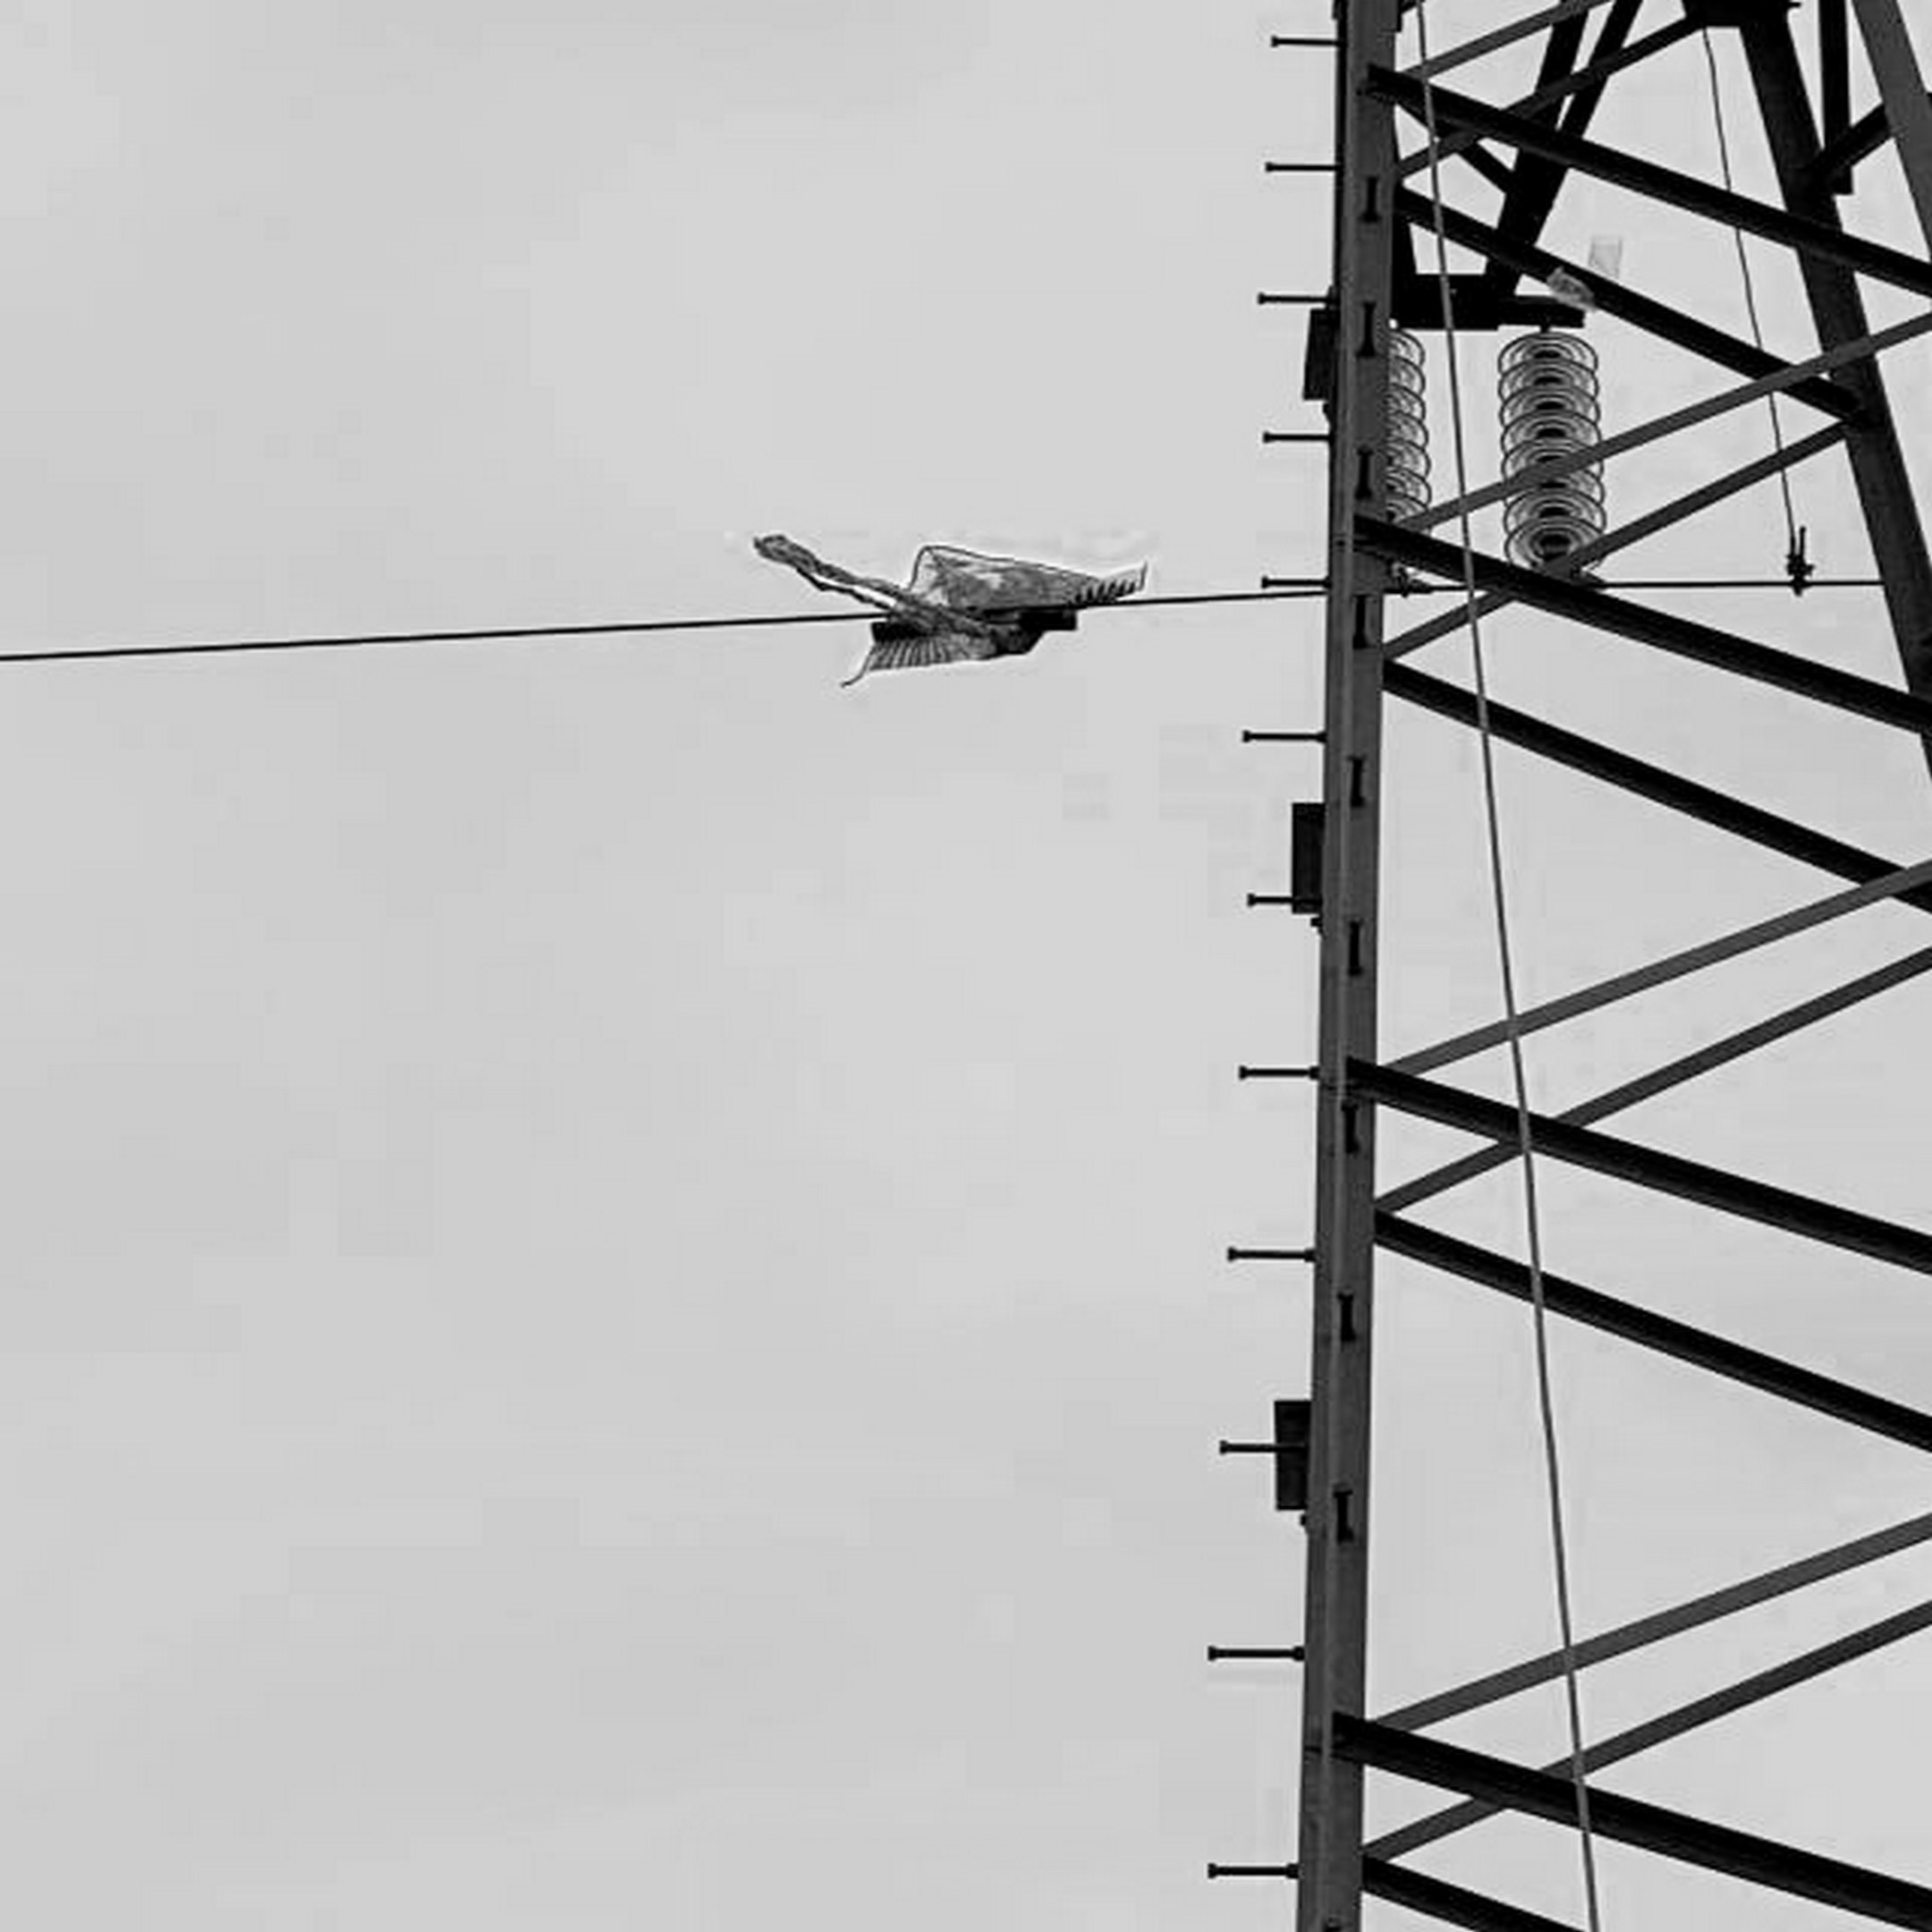wire foreign body: (725, 492, 1178, 717)
